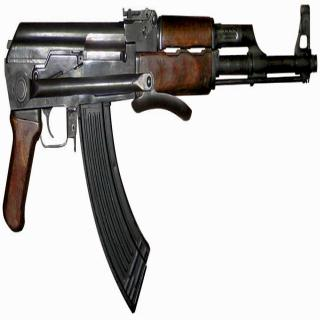gun: (4, 6, 318, 312)
